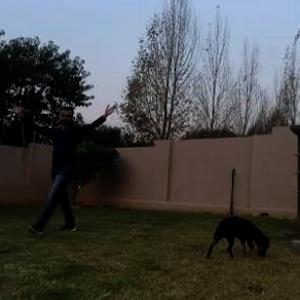takeoff: (20, 102, 125, 237)
